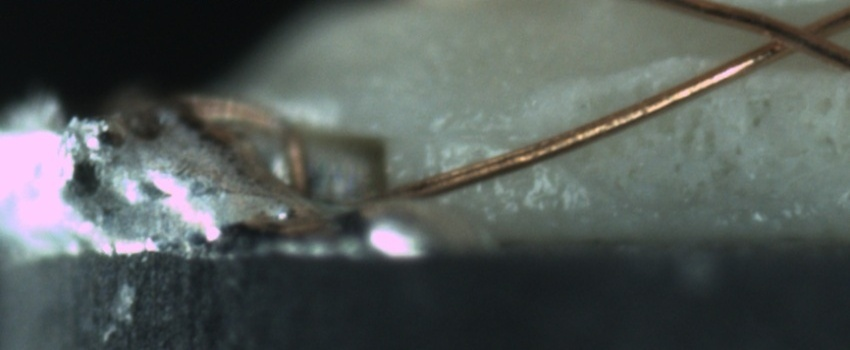CL: (743, 6, 842, 64)
DL: (441, 115, 571, 169)
TE: (181, 87, 310, 204)
